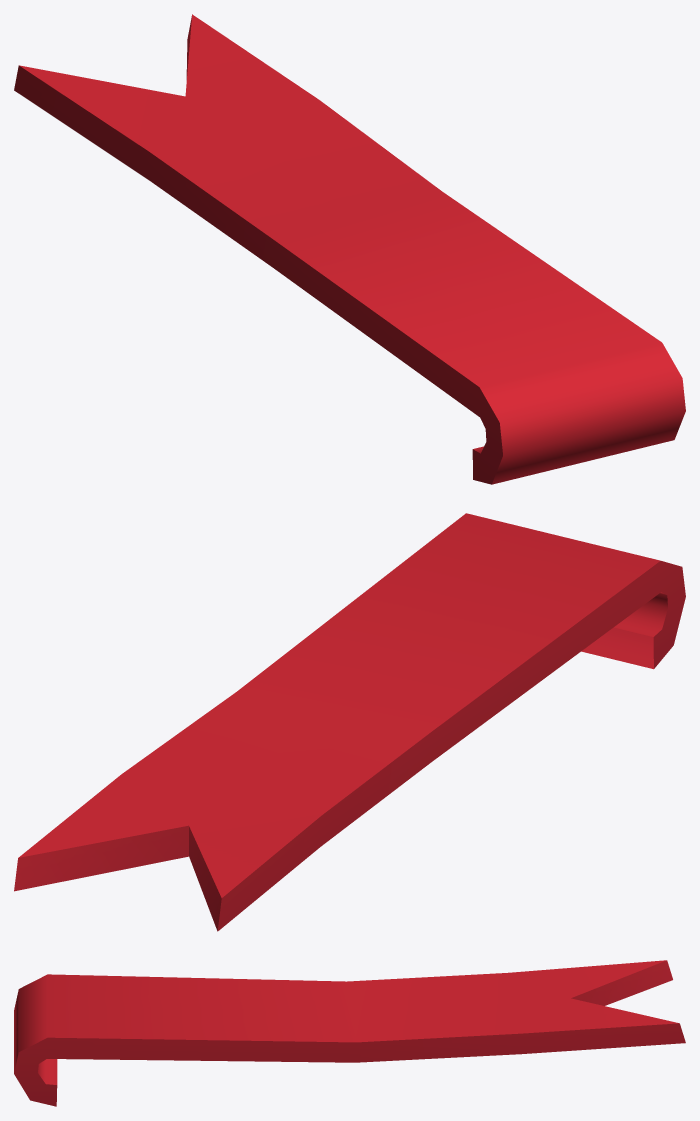
File: Bookmark2.fbx
The picture shows the model from 3 angles, top to bottom: view 1: azimuth 30°, elevation 25°; view 2: azimuth 150°, elevation 25°; view 3: azimuth 270°, elevation 25°; orthographic projection. The views are drawn at different scales.
Visible parts, largest first — view 1: Bookmark2; view 2: Bookmark2; view 3: Bookmark2.
Boxes of the visible parts, <box> form: Bookmark2: <box>14,14,685,484</box>; Bookmark2: <box>14,513,685,931</box>; Bookmark2: <box>14,960,685,1106</box>.
Size of the model in its own units: 4.69 by 2.28 by 18.56.
